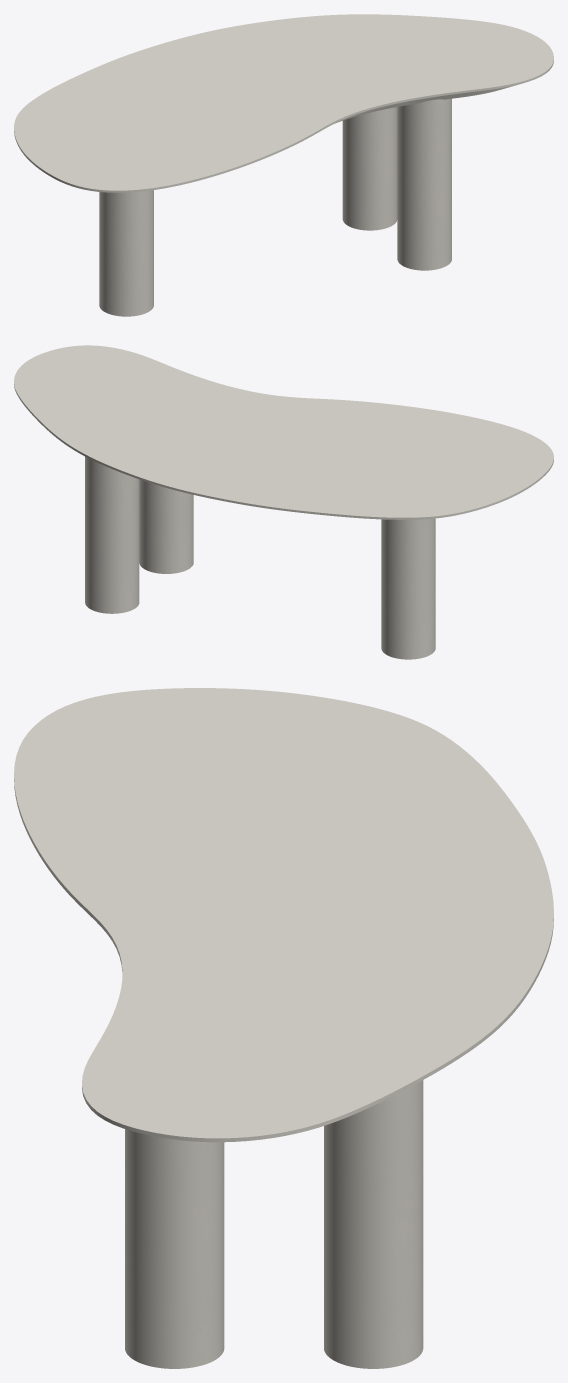
File: pale_leaf1_facet_cylinder.glb
3 renders of one model, top to bottom at view 1: azimuth 30°, elevation 25°; view 2: azimuth 150°, elevation 25°; view 3: azimuth 270°, elevation 25°, orthographic. The views are drawn at different scales.
Visible parts, largest first — view 1: facet_leaf1, cylinder; view 2: facet_leaf1, cylinder; view 3: facet_leaf1, cylinder.
Boxes of the visible parts, left/top/right/bottom form: facet_leaf1: left=14, top=14, right=553, bottom=192; cylinder: left=99, top=98, right=451, bottom=316; facet_leaf1: left=14, top=345, right=553, bottom=519; cylinder: left=85, top=456, right=435, bottom=659; facet_leaf1: left=14, top=688, right=553, bottom=1142; cylinder: left=125, top=1080, right=423, bottom=1368.
Size of the model in its own units: 7.5 by 2.52 by 3.8.
Materials: 1 (1 with a texture image).
